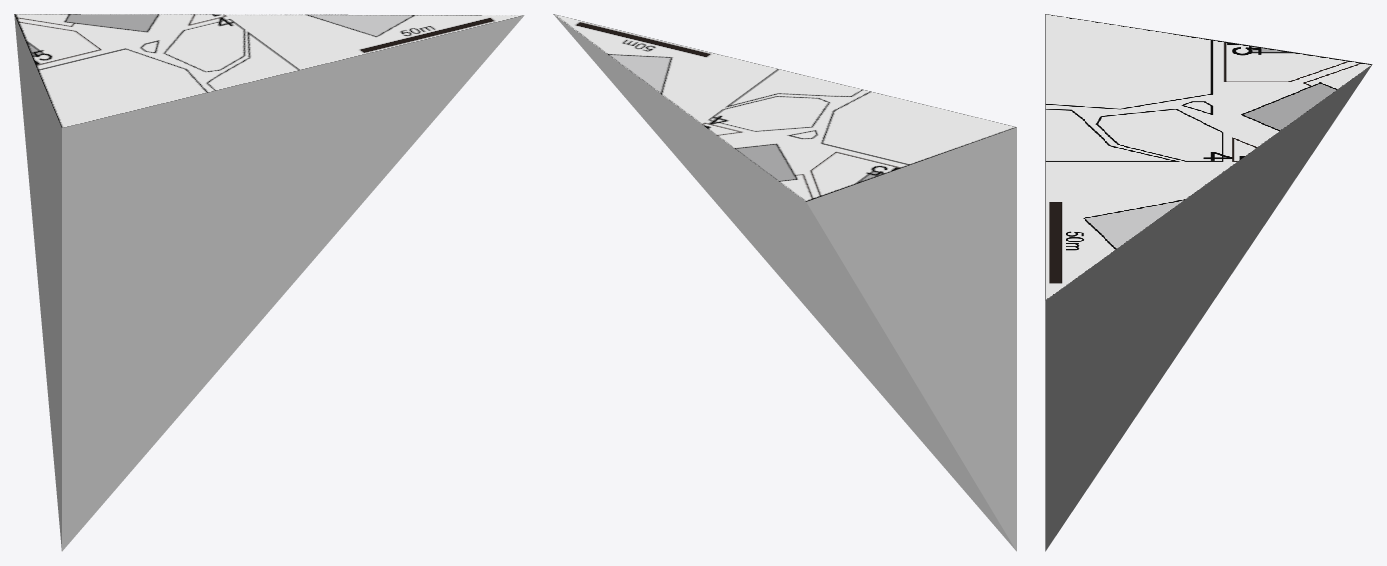
Rendered from Right_W.glb.
3 views of the same model, side by side, from view 1: azimuth 30°, elevation 25°; view 2: azimuth 150°, elevation 25°; view 3: azimuth 270°, elevation 25° (orthographic). The views are drawn at different scales.
Parts seen in each view (by area): view 1: Right_W; view 2: Right_W; view 3: Right_W.
Part boxes in pixels (left/top/right/bottom): Right_W: left=14, top=14, right=524, bottom=551; Right_W: left=553, top=14, right=1016, bottom=551; Right_W: left=1045, top=14, right=1372, bottom=551.
Bounding box in the file's own units: 3.49 × 3.06 × 1.69.
2 materials, 1 textured.
